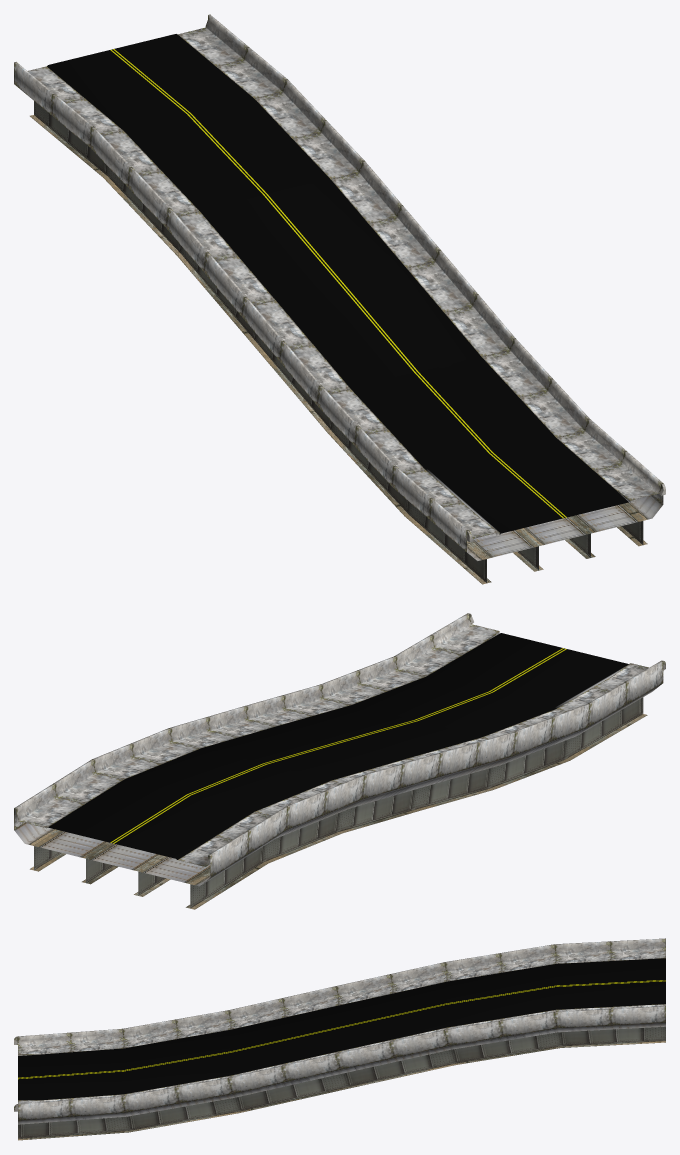
File: Bridge-Ramp.fbx
3 views of the same model, one above another, from view 1: azimuth 30°, elevation 25°; view 2: azimuth 150°, elevation 25°; view 3: azimuth 270°, elevation 25° (orthographic). The views are drawn at different scales.
Parts seen in each view (by area): view 1: Bridge-Ramp; view 2: Bridge-Ramp; view 3: Bridge-Ramp.
Part boxes in pixels (x1,y1,x2,y2): Bridge-Ramp: [14, 14, 665, 584]; Bridge-Ramp: [14, 613, 665, 909]; Bridge-Ramp: [14, 938, 665, 1140].
Size of the model in its own units: 2100 by 1987 by 8451.
